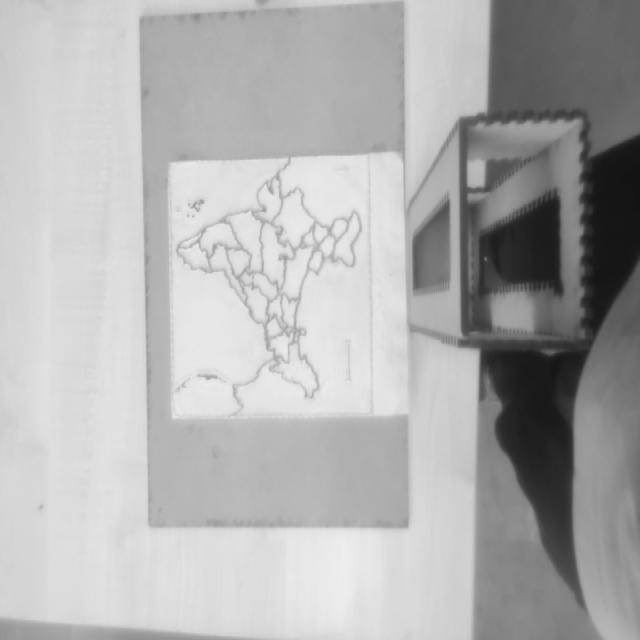map: (168, 154, 373, 418)
